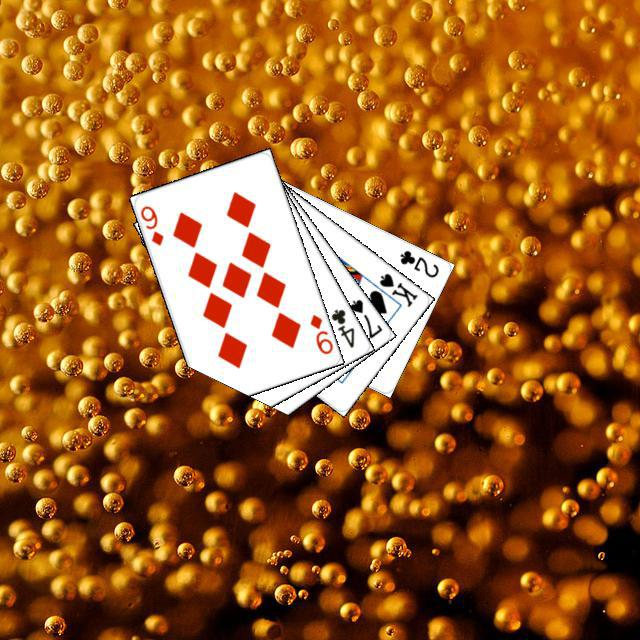2c: (395, 245, 441, 280)
4c: (326, 304, 356, 350)
7s: (345, 294, 384, 340)
9d: (135, 201, 166, 247), (305, 309, 334, 356)
Ks: (374, 268, 419, 309)
